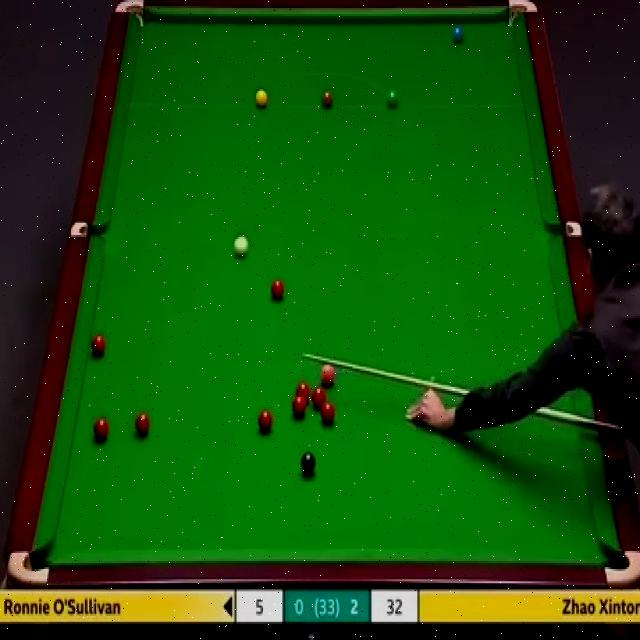black-ball: (300, 453, 316, 475)
blue-ball: (452, 25, 466, 43)
brown-ball: (322, 89, 334, 109)
green-ball: (385, 89, 400, 111)
pink-ball: (320, 362, 335, 387)
red-ball: (257, 408, 274, 435), (94, 416, 110, 444), (135, 410, 151, 437), (90, 332, 107, 357), (320, 399, 336, 424), (270, 279, 285, 302), (314, 384, 329, 406), (296, 381, 310, 404), (292, 396, 307, 417)
white-ball: (233, 234, 249, 257)
yellow-ball: (254, 89, 269, 109)
